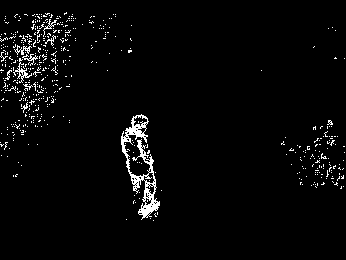person: (117, 111, 172, 222)
